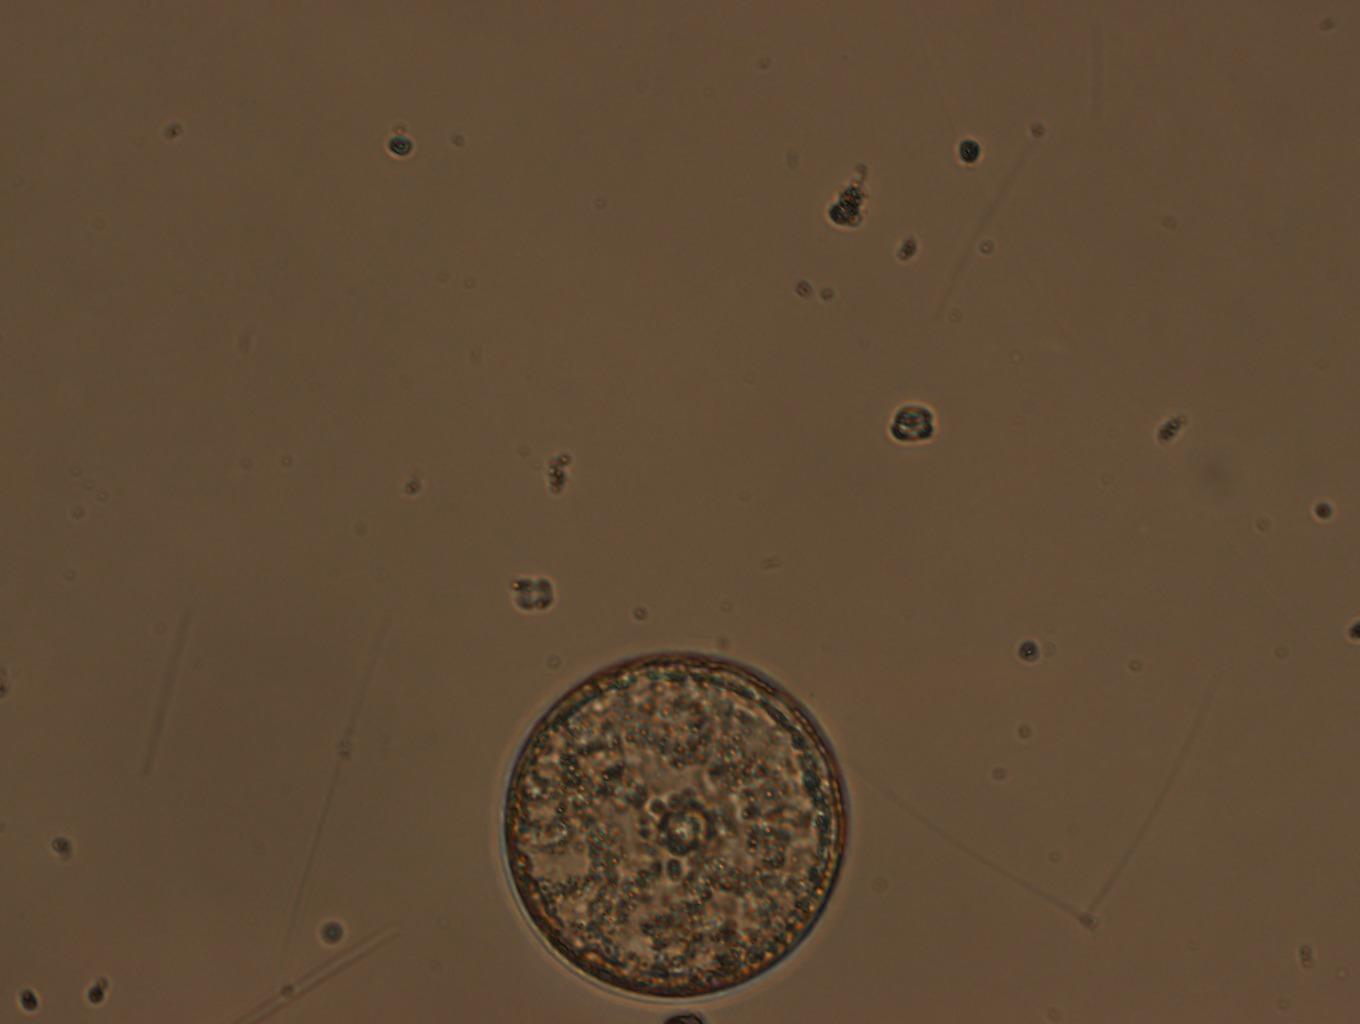coscinodiscus: (492, 644, 857, 1006)
